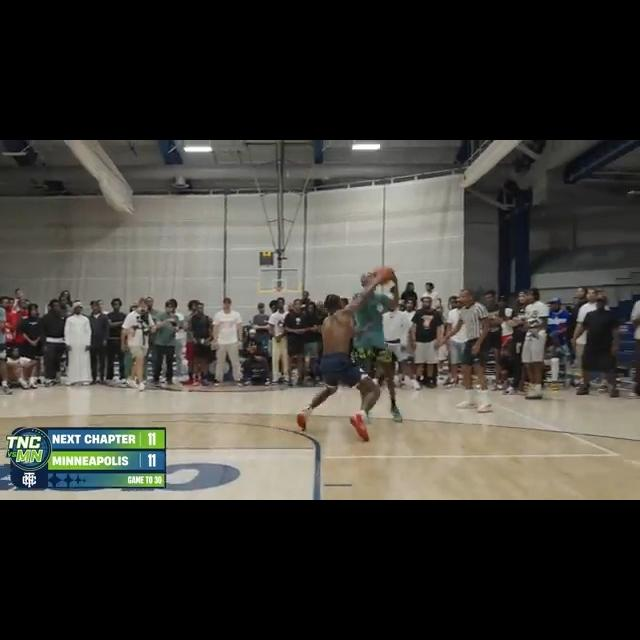basketball: (375, 267, 396, 285)
